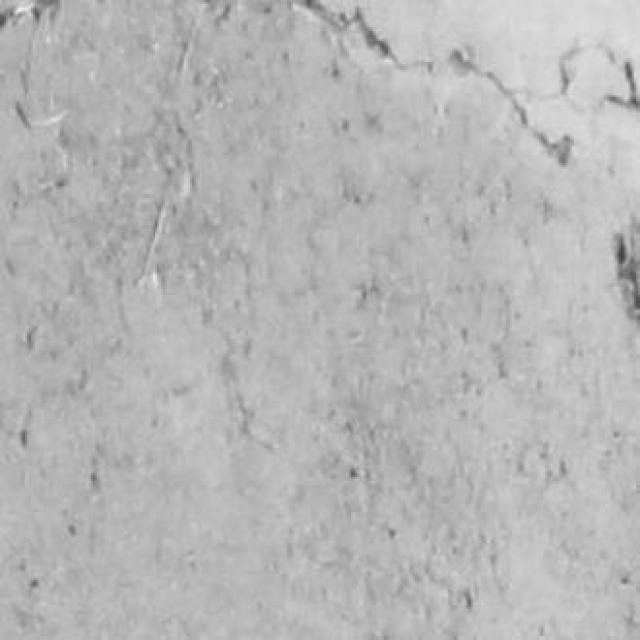crack: (450, 51, 574, 166), (289, 0, 432, 73), (606, 61, 639, 112)
